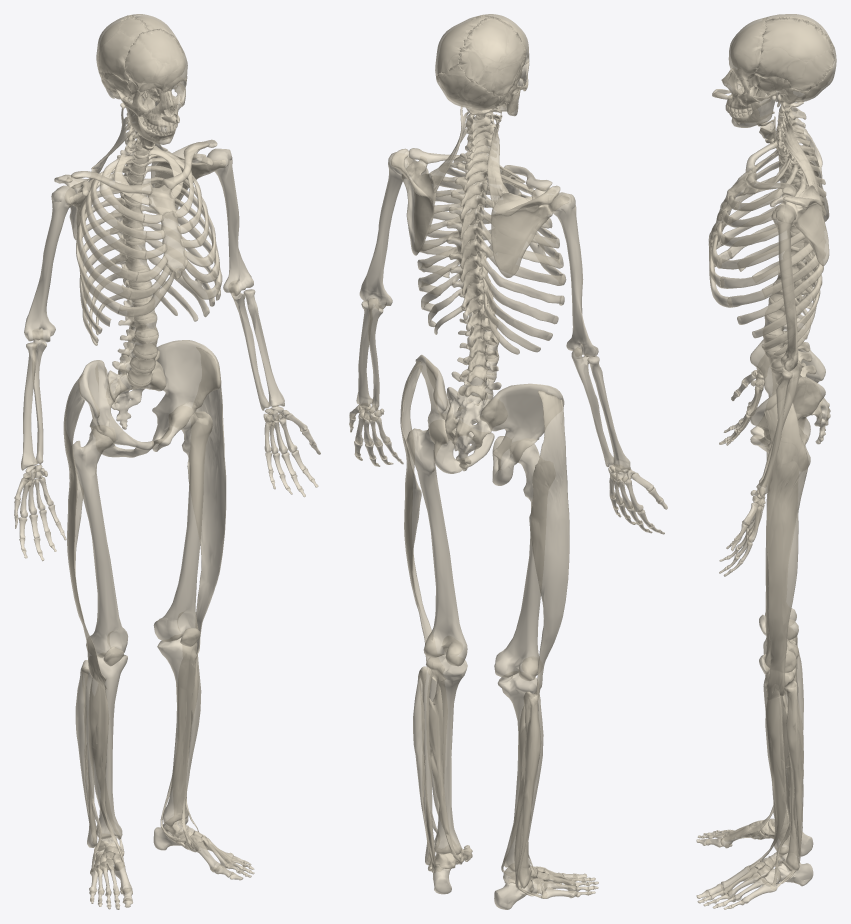
The model's file is bone.glb.
3 views of the same model, side by side, from view 1: azimuth 30°, elevation 25°; view 2: azimuth 150°, elevation 25°; view 3: azimuth 270°, elevation 25° (orthographic). The views are drawn at different scales.
Parts seen in each view (by area): view 1: bone; view 2: bone; view 3: bone.
Boxes of the visible parts, left/top/right/bottom form: bone: left=14, top=14, right=320, bottom=909; bone: left=349, top=14, right=667, bottom=909; bone: left=696, top=14, right=836, bottom=909.
Bounding box in the file's own units: 1.73 × 4.57 × 0.6796.
